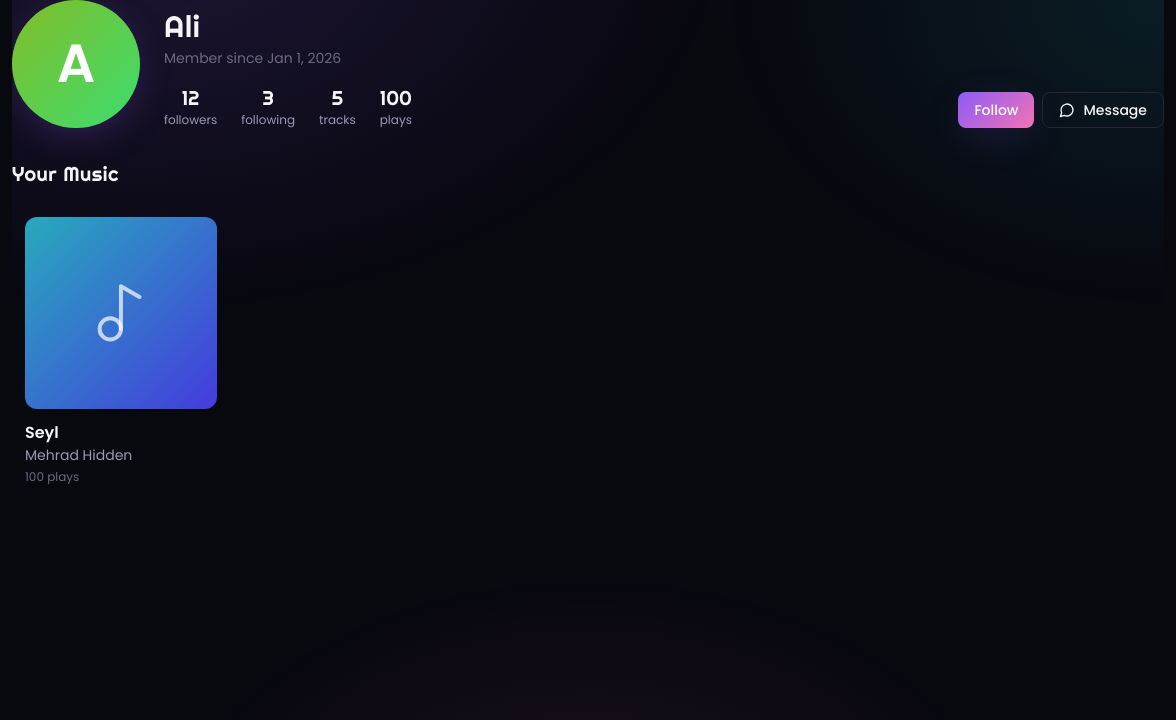
Test case: ProfileView — following › follows, and refreshes the profile so the counts update
Click the button "Follow".
click(996, 110)  # box 958,92 -> 1034,128
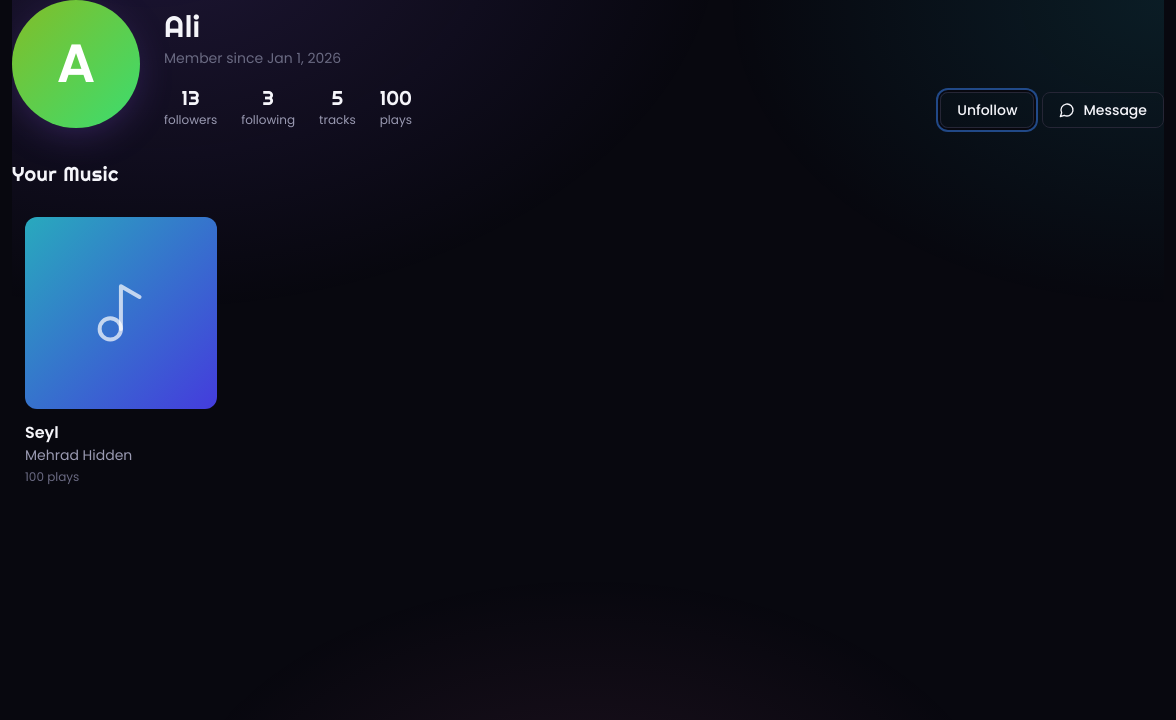
Result: the button "Unfollow" is shown at 940,92 -> 1034,128
